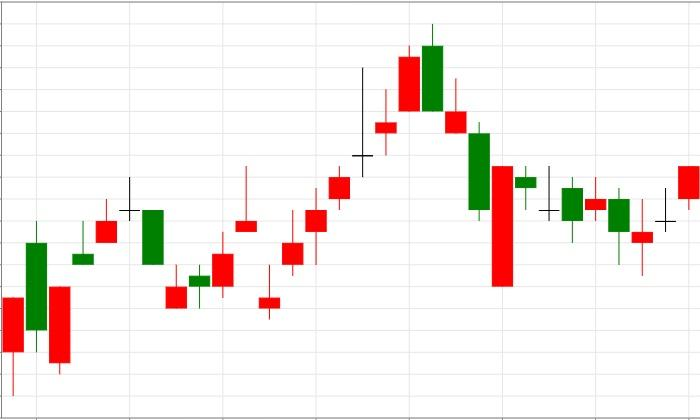bearish_engulfing_fall: (259, 24, 444, 320)
evening_star_fall: (49, 177, 164, 376)
